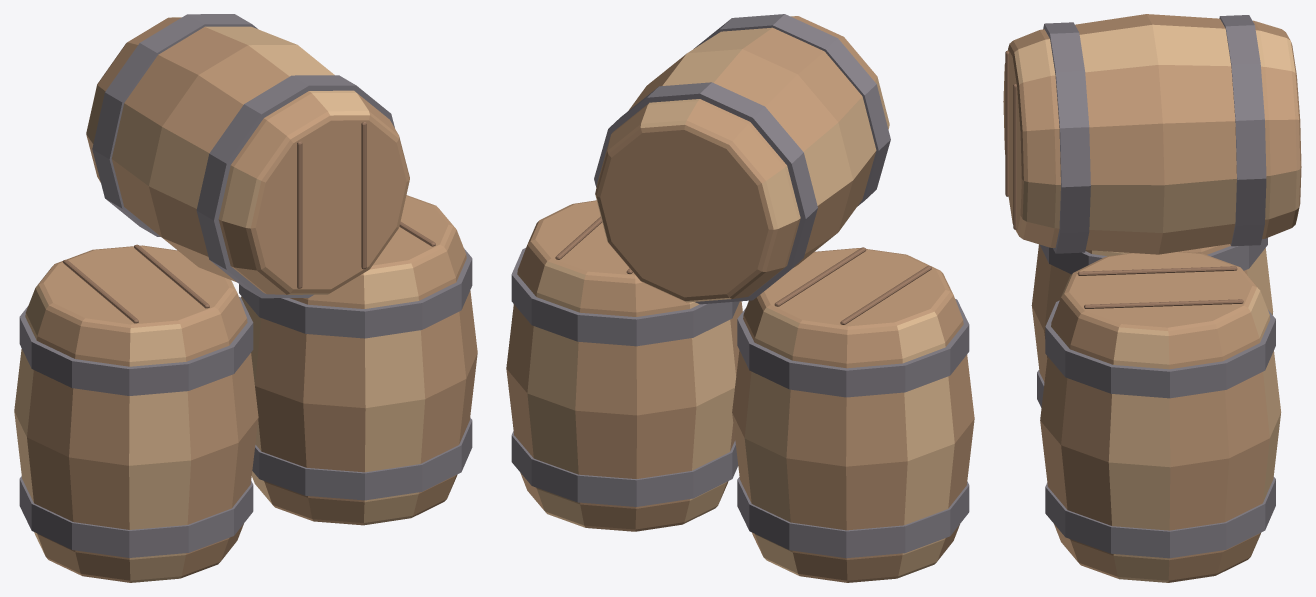
File: Kit_BarrelStack.fbx
3 renders of one model, left to right at view 1: azimuth 30°, elevation 25°; view 2: azimuth 150°, elevation 25°; view 3: azimuth 270°, elevation 25°, orthographic.
Parts seen in each view (by area): view 1: Kit_BarrelStack; view 2: Kit_BarrelStack; view 3: Kit_BarrelStack.
Boxes of the visible parts, box(x1,y1,x2,y2) form: Kit_BarrelStack: box(14, 14, 477, 582); Kit_BarrelStack: box(506, 14, 974, 582); Kit_BarrelStack: box(1003, 14, 1301, 582).
Bounding box in the file's own units: 1.52 × 1.57 × 0.9119.
